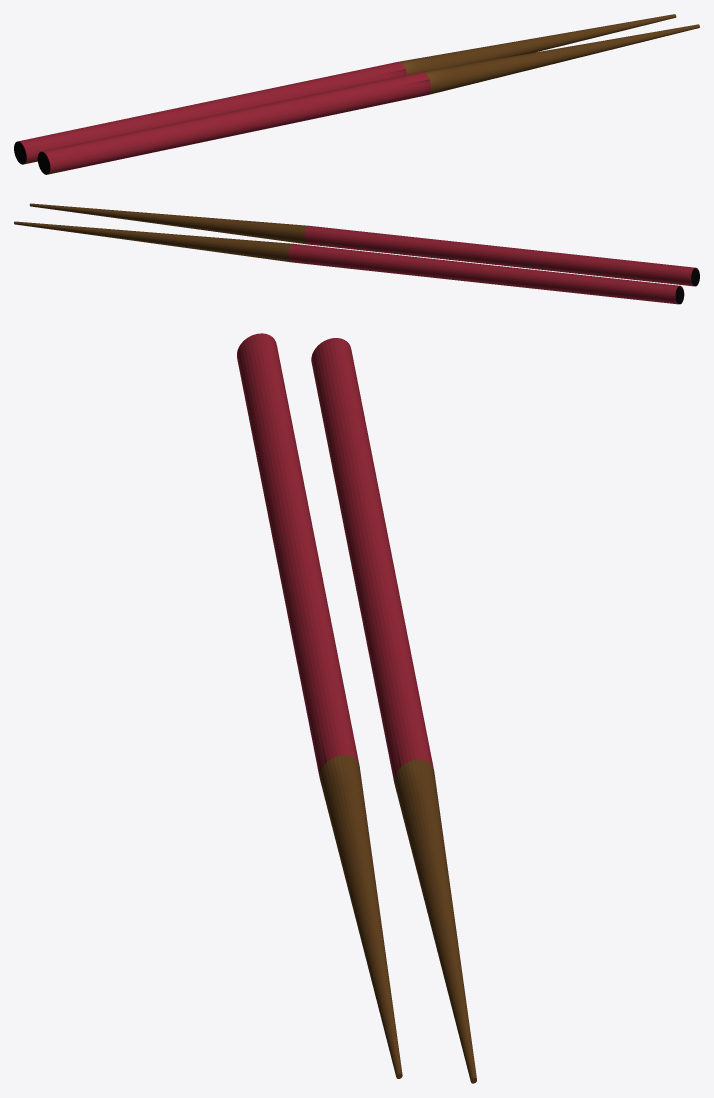
Rendered from hasi.glb.
The picture shows the model from 3 angles, top to bottom: view 1: azimuth 30°, elevation 25°; view 2: azimuth 150°, elevation 25°; view 3: azimuth 270°, elevation 25°; orthographic projection. The views are drawn at different scales.
Parts seen in each view (by area): view 1: 円柱.001, 円柱; view 2: 円柱, 円柱.001; view 3: 円柱.001, 円柱.
Boxes of the visible parts, bbox=[...] form: 円柱.001: bbox=[37, 24, 699, 174]; 円柱: bbox=[14, 14, 676, 164]; 円柱: bbox=[14, 221, 684, 304]; 円柱.001: bbox=[29, 203, 699, 286]; 円柱.001: bbox=[237, 333, 402, 1078]; 円柱: bbox=[311, 338, 476, 1083].
Size of the model in its own units: 1.01 by 0.1064 by 0.1666.
2 materials, 2 textured.
